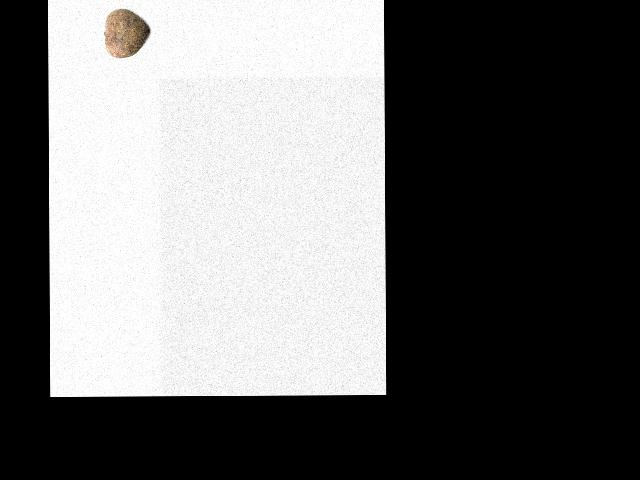beet: (104, 8, 150, 58)
